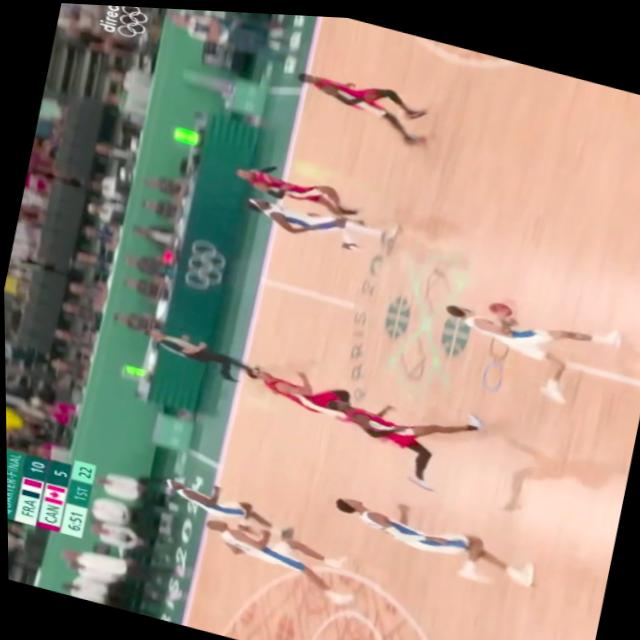ball_handler: (435, 272, 626, 366)
